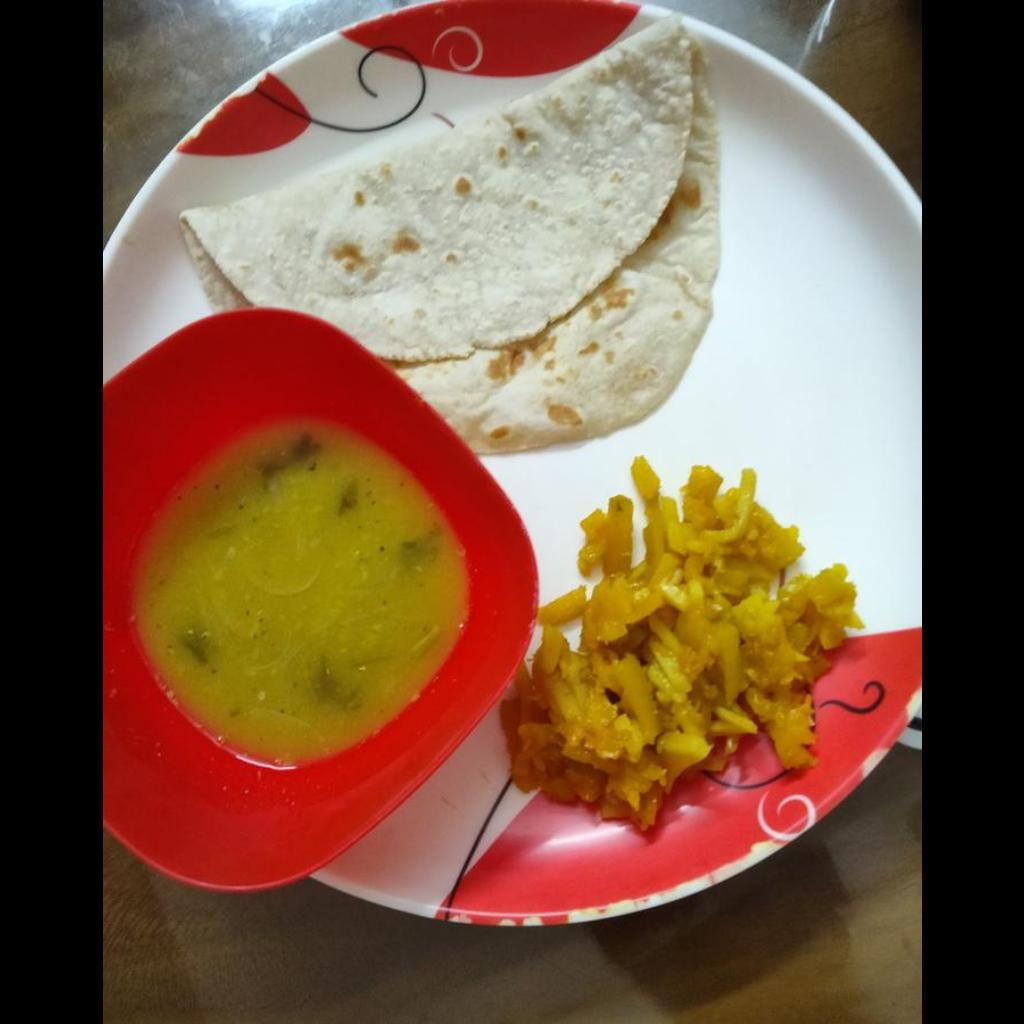daal: (144, 436, 461, 759)
ruti: (173, 19, 716, 454)
vaji: (502, 456, 862, 837)
